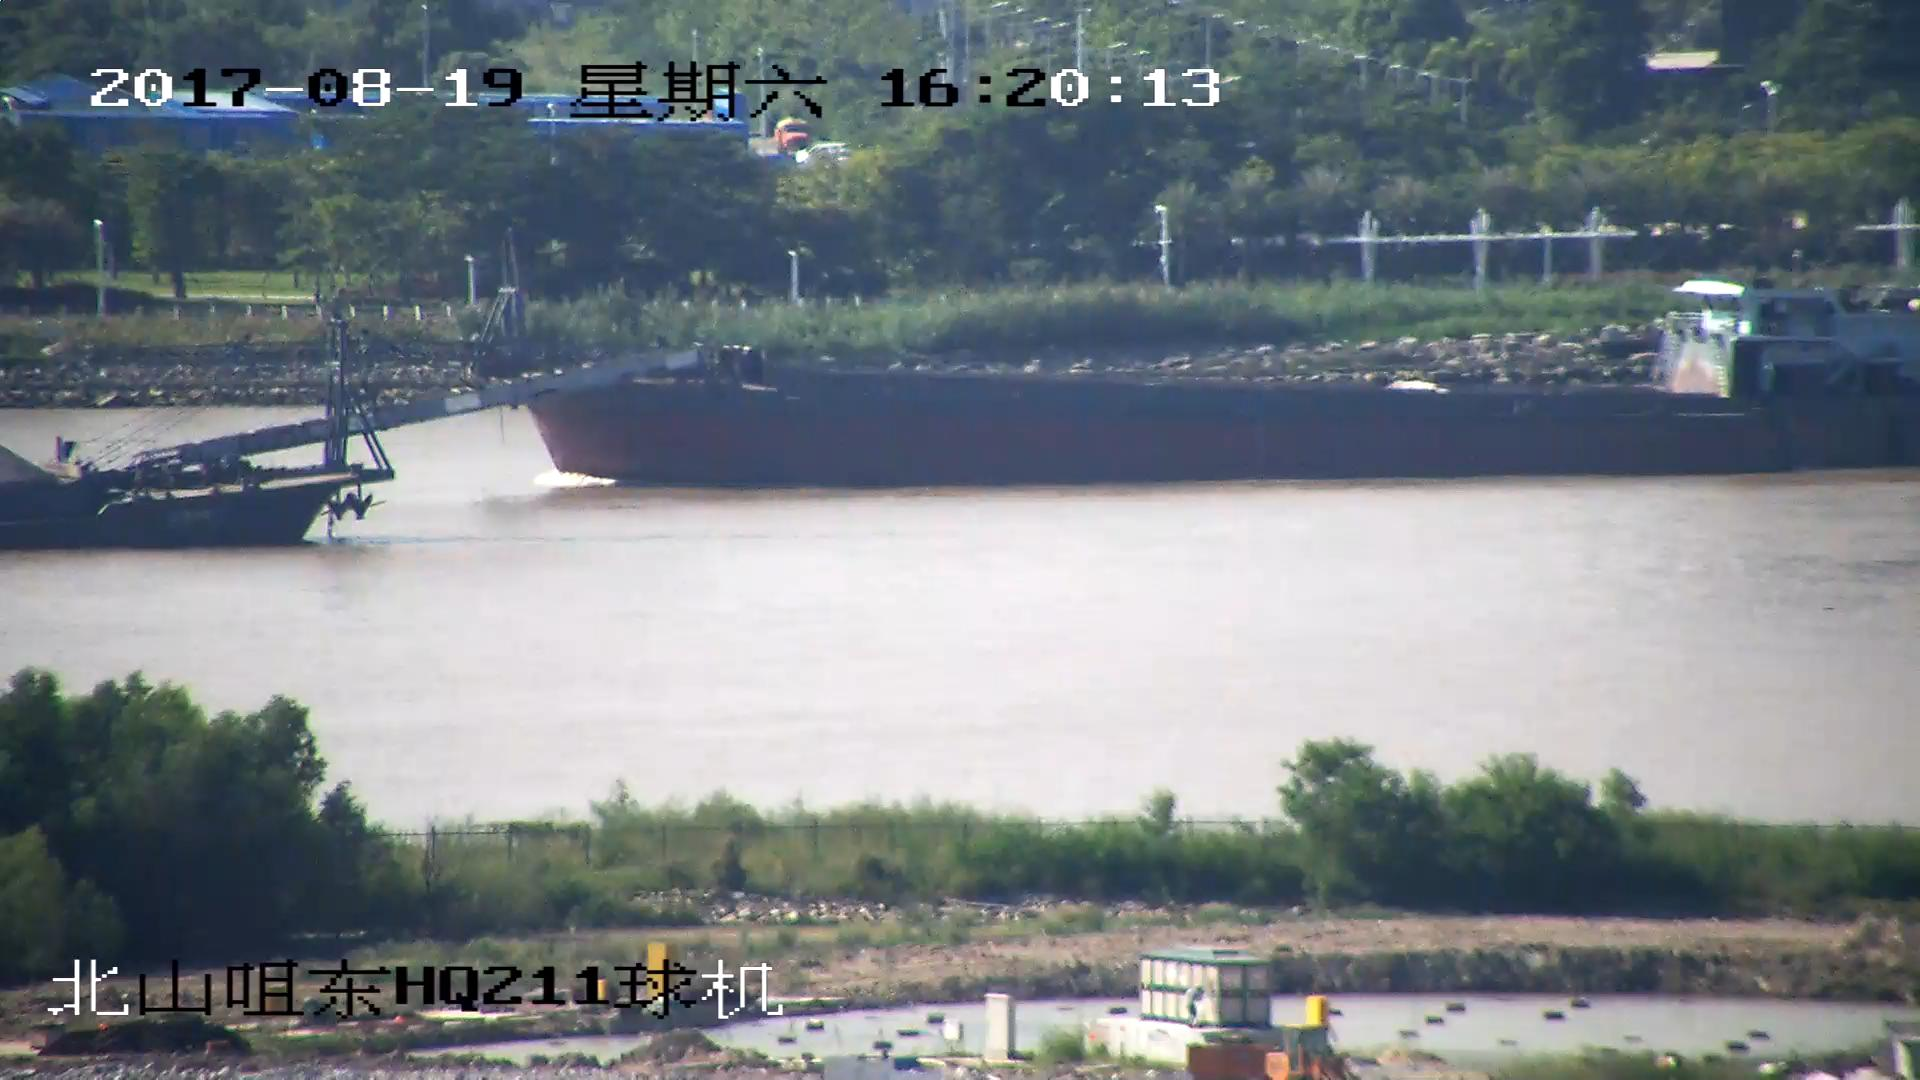bulk cargo carrier: (327, 230, 1920, 484)
ore carrier: (1, 326, 681, 548)
